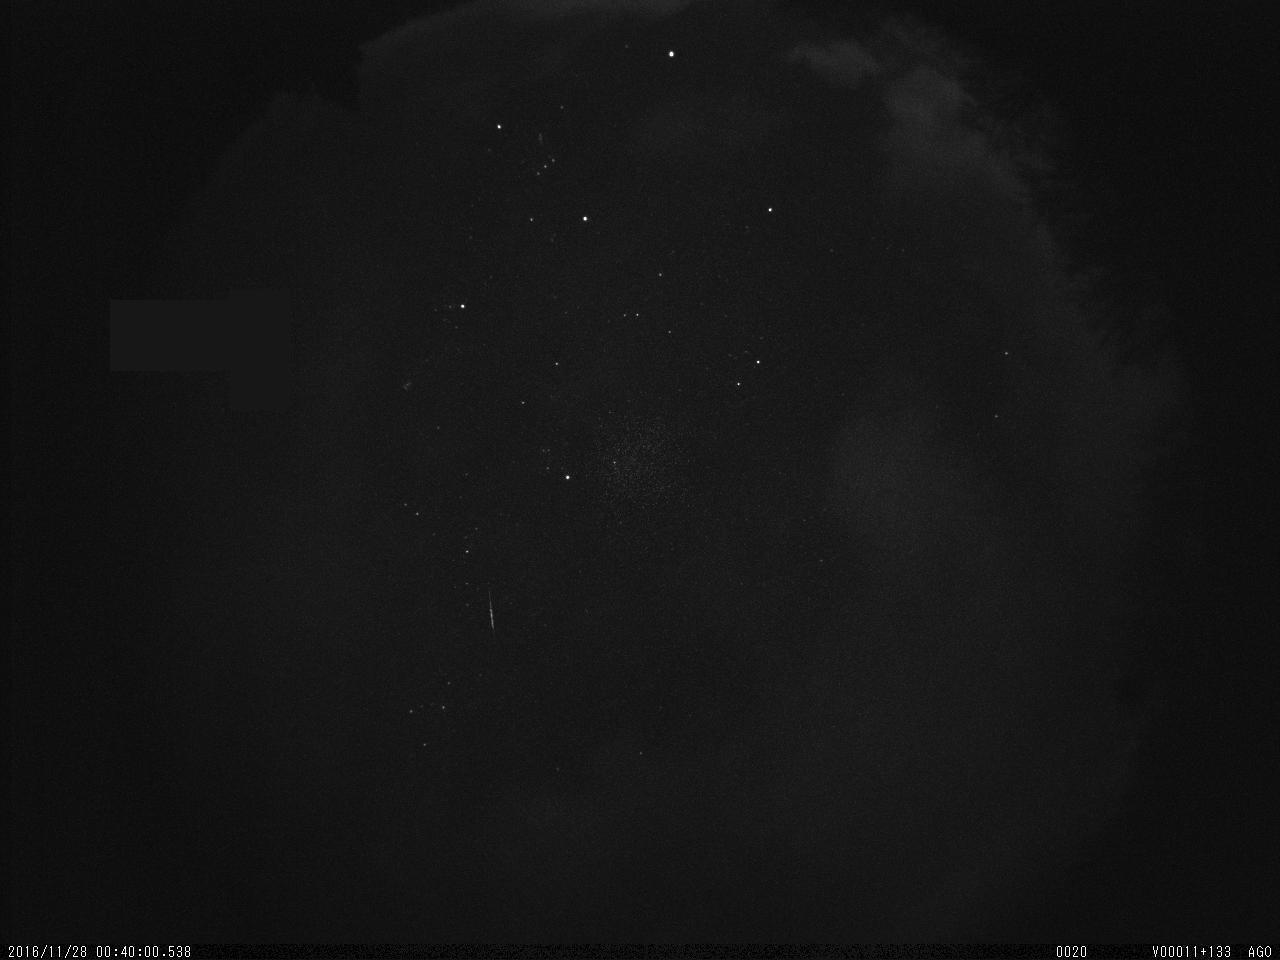meteor: (456, 566, 533, 645)
